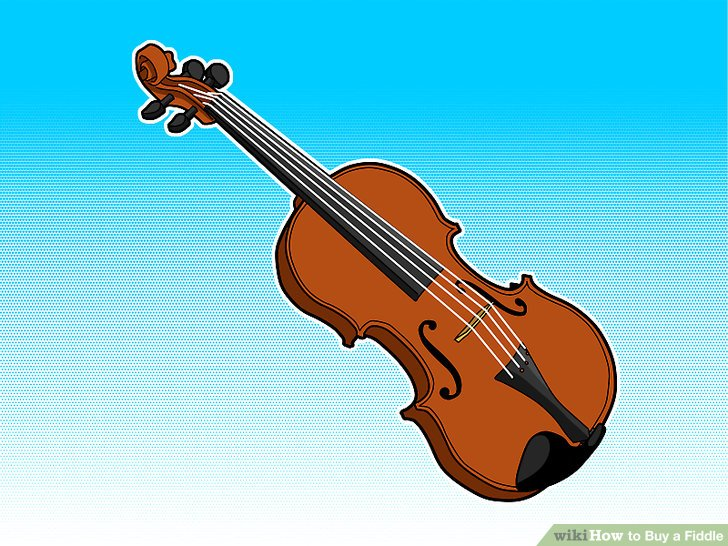Fiddle: (124, 32, 645, 490)
